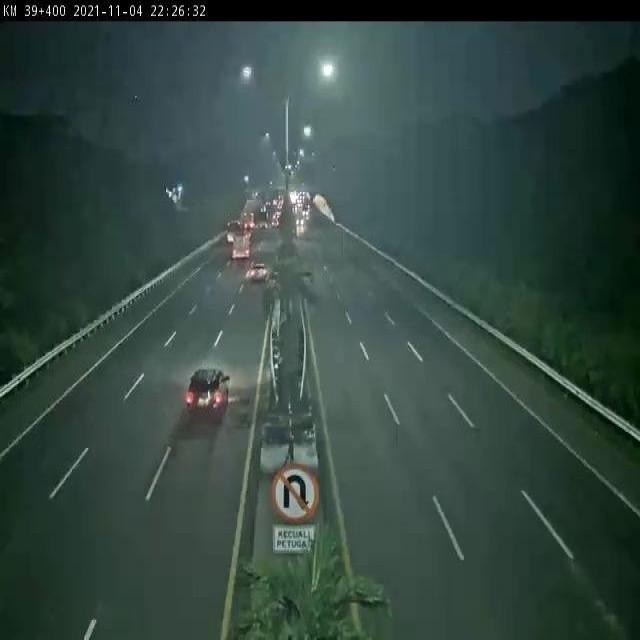car: (183, 355, 235, 428), (247, 250, 274, 294)
